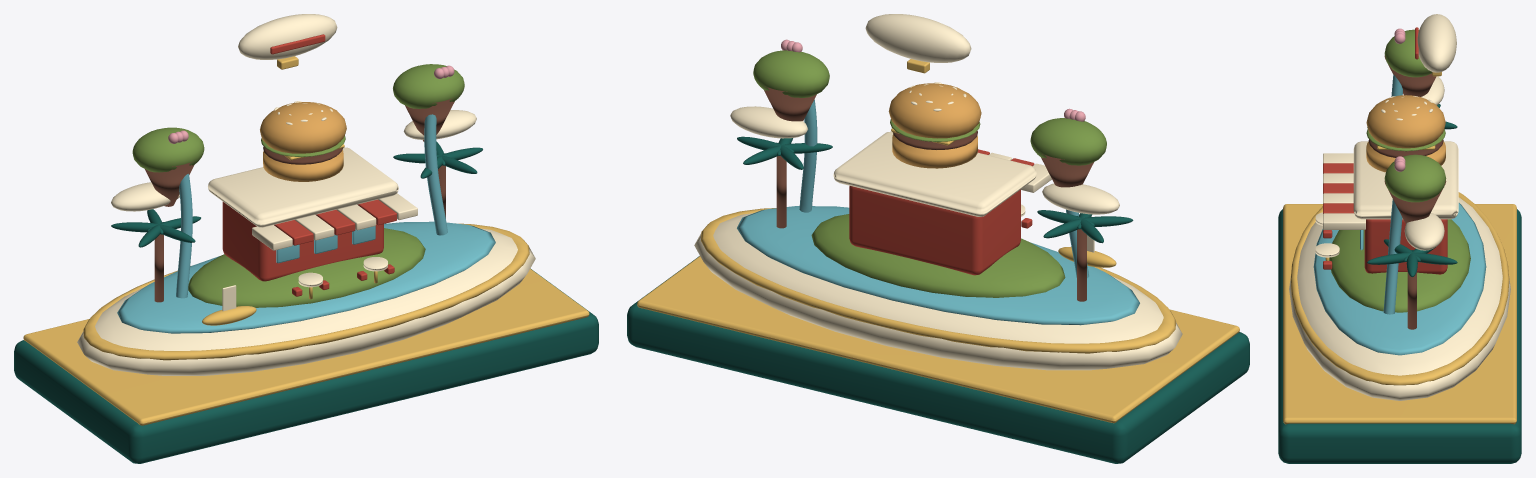
3 views of the same model, side by side, from view 1: azimuth 30°, elevation 25°; view 2: azimuth 150°, elevation 25°; view 3: azimuth 270°, elevation 25° (orthographic). The views are drawn at different scales.
Visible parts, largest first — view 1: Porcelain world platter, Jade footing, Brass welt, Island lagoon, Restaurant island, Tiny restaurant, Lower bun, Patty, Airship envelope, Little boat; view 2: Porcelain world platter, Jade footing, Brass welt, Restaurant island, Island lagoon, Tiny restaurant, Lower bun, Patty, Airship envelope; view 3: Brass welt, Porcelain world platter, Jade footing, Island lagoon, Restaurant island, Lower bun, Tiny restaurant, Patty, Airship envelope, Garden flower.
Boxes of the visible parts, left/top/right/bottom form: Porcelain world platter: left=77, top=101, right=535, bottom=375; Jade footing: left=14, top=141, right=598, bottom=463; Brass welt: left=23, top=144, right=589, bottom=425; Island lagoon: left=117, top=114, right=495, bottom=333; Restaurant island: left=132, top=64, right=464, bottom=307; Tiny restaurant: left=222, top=199, right=396, bottom=296; Lower bun: left=260, top=102, right=346, bottom=181; Patty: left=145, top=98, right=454, bottom=302; Airship envelope: left=238, top=14, right=337, bottom=59; Little boat: left=202, top=306, right=256, bottom=325; Porcelain world platter: left=694, top=82, right=1182, bottom=370; Jade footing: left=627, top=136, right=1249, bottom=463; Brass welt: left=637, top=128, right=1239, bottom=423; Restaurant island: left=753, top=50, right=1106, bottom=297; Island lagoon: left=737, top=99, right=1139, bottom=325; Tiny restaurant: left=849, top=149, right=1034, bottom=275; Lower bun: left=888, top=83, right=981, bottom=168; Patty: left=764, top=86, right=1093, bottom=301; Airship envelope: left=865, top=14, right=971, bottom=62; Brass welt: left=1283, top=145, right=1516, bottom=424; Porcelain world platter: left=1289, top=76, right=1510, bottom=400; Jade footing: left=1278, top=104, right=1521, bottom=463; Island lagoon: left=1313, top=74, right=1486, bottom=355; Restaurant island: left=1329, top=29, right=1470, bottom=312; Lower bun: left=1366, top=95, right=1445, bottom=172; Tiny restaurant: left=1323, top=163, right=1447, bottom=274; Patty: left=1368, top=55, right=1446, bottom=329; Airship envelope: left=1417, top=14, right=1456, bottom=72; Garden flower: left=1394, top=28, right=1405, bottom=171.
Bounding box in the file's own units: 1.73 × 1.18 × 0.79.
